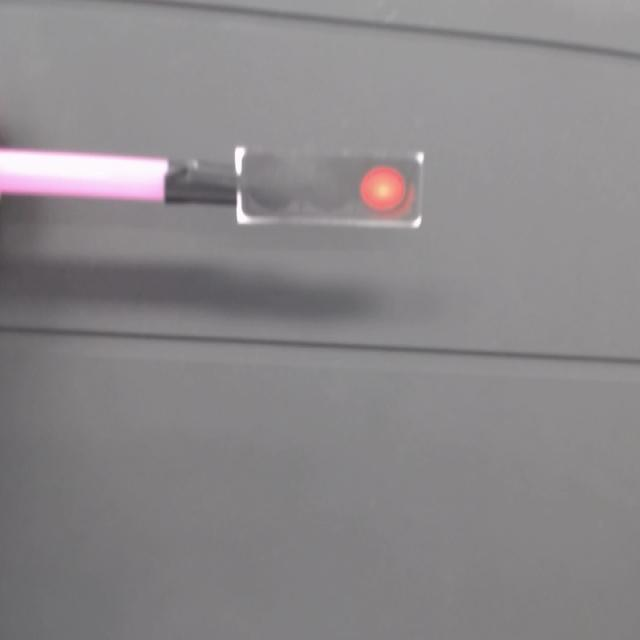traffic light: (235, 145, 429, 251)
